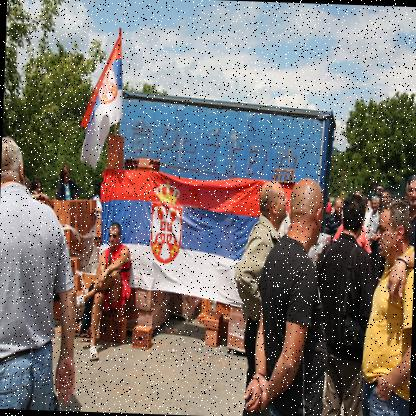rs: (96, 169, 296, 312), (79, 35, 127, 171)
